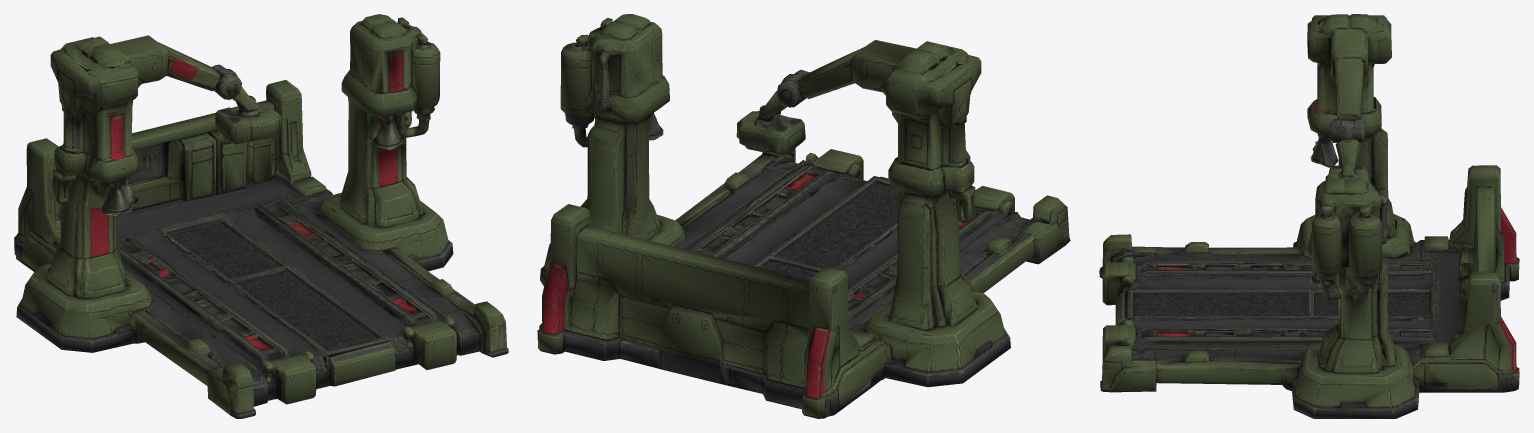
Rendered from repair-depot.glb.
3 views of the same model, side by side, from view 1: azimuth 30°, elevation 25°; view 2: azimuth 150°, elevation 25°; view 3: azimuth 270°, elevation 25° (orthographic). The views are drawn at different scales.
Visible parts, largest first — view 1: mesh_node; view 2: mesh_node; view 3: mesh_node.
Boxes of the visible parts, <box> form: mesh_node: <box>14,14,508,418</box>; mesh_node: <box>537,14,1070,418</box>; mesh_node: <box>1099,14,1519,418</box>.
Size of the model in its own units: 1.98 by 1.33 by 2.
Materials: 1 (1 with a texture image).
